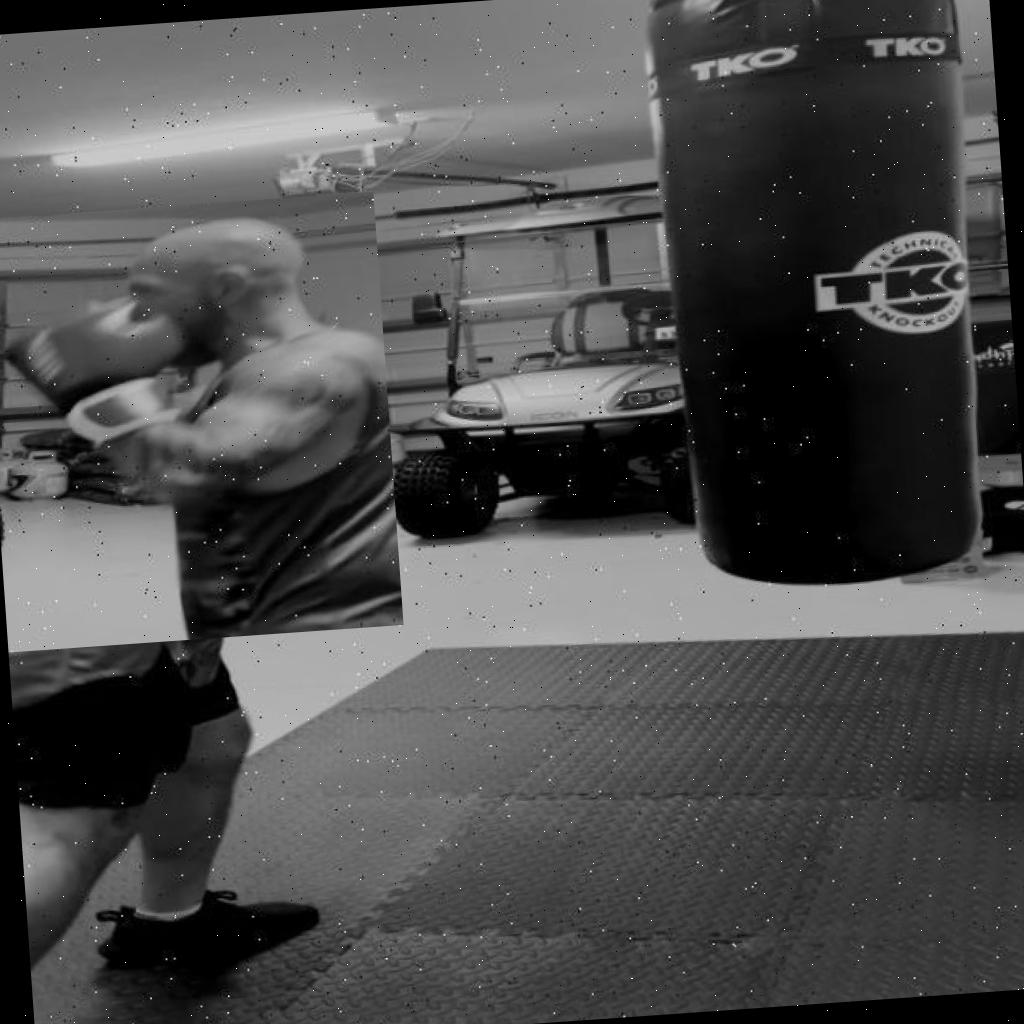bag: (623, 0, 1024, 593)
no punch: (0, 191, 403, 652)
